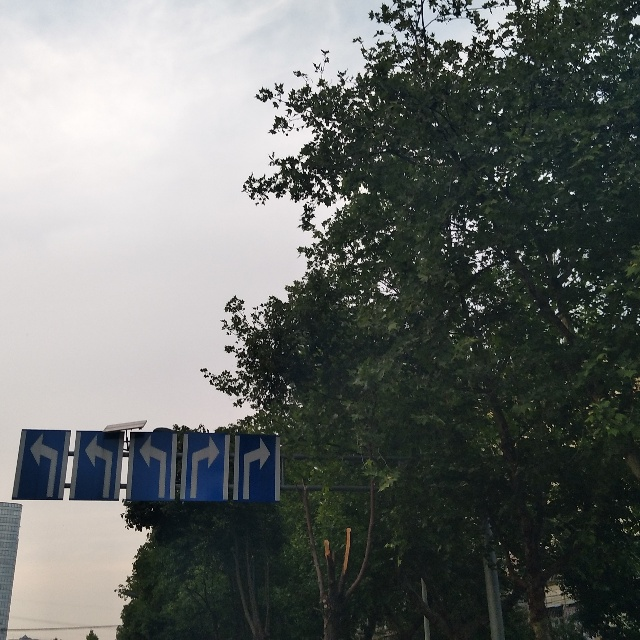left: (12, 429, 70, 501), (69, 431, 125, 501), (127, 432, 176, 501)
right: (180, 433, 229, 501), (232, 434, 280, 502)
